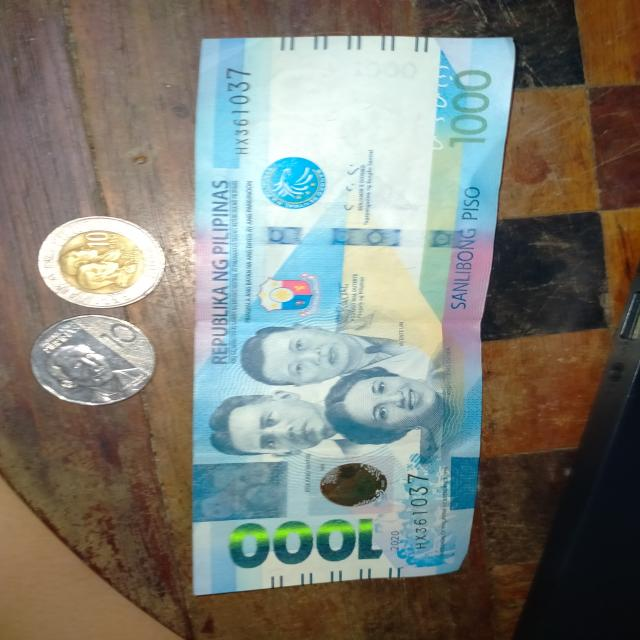concealed_value: (189, 464, 297, 524)
optically_variable_device: (308, 450, 398, 521)
see_through_mark: (413, 60, 459, 157)
value_watermark: (346, 57, 423, 85)
